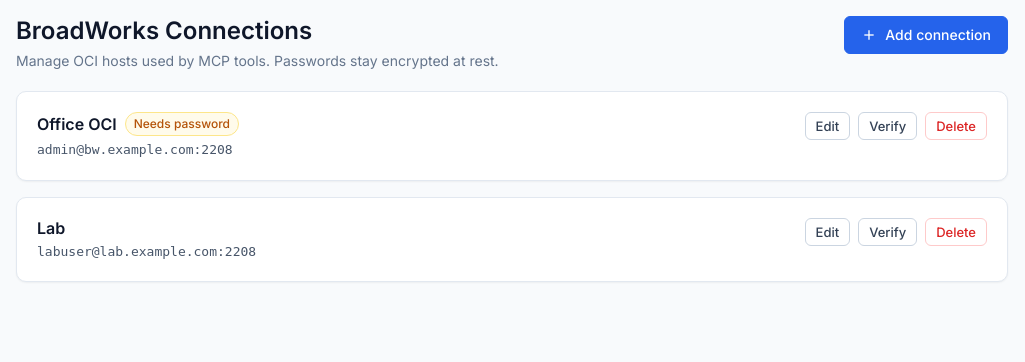
Test: ConnectionsListComponent › verifies a connection through ConnectionsService
Click the button "Verify" in the row of "Needs password": (888, 126) x1=858 y1=112 x2=917 y2=140
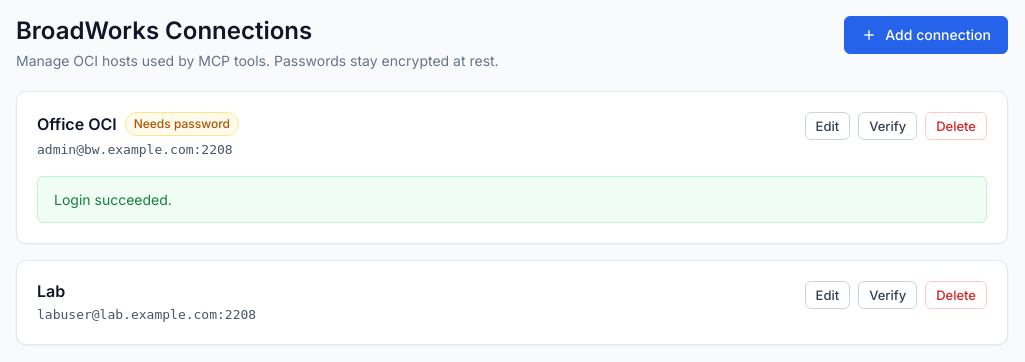
Now the text "Login succeeded." is shown, box x1=37 y1=176 x2=987 y2=222
